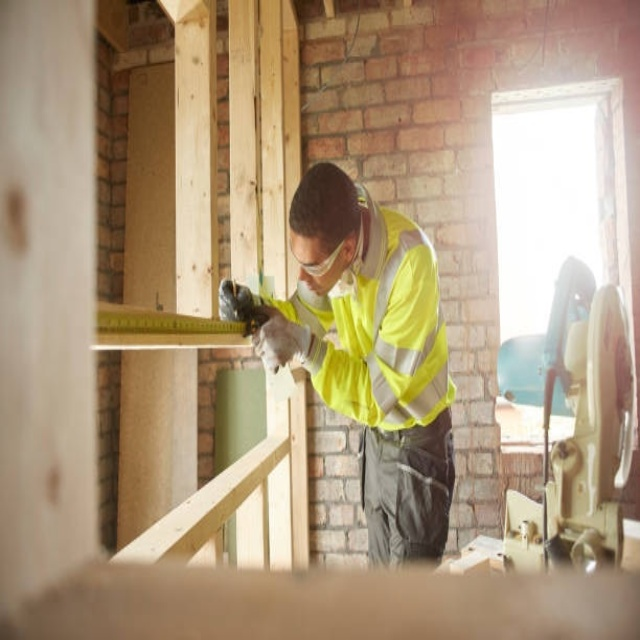Gafas: (294, 214, 353, 278)
Guantes: (252, 311, 315, 375), (218, 278, 253, 323)
